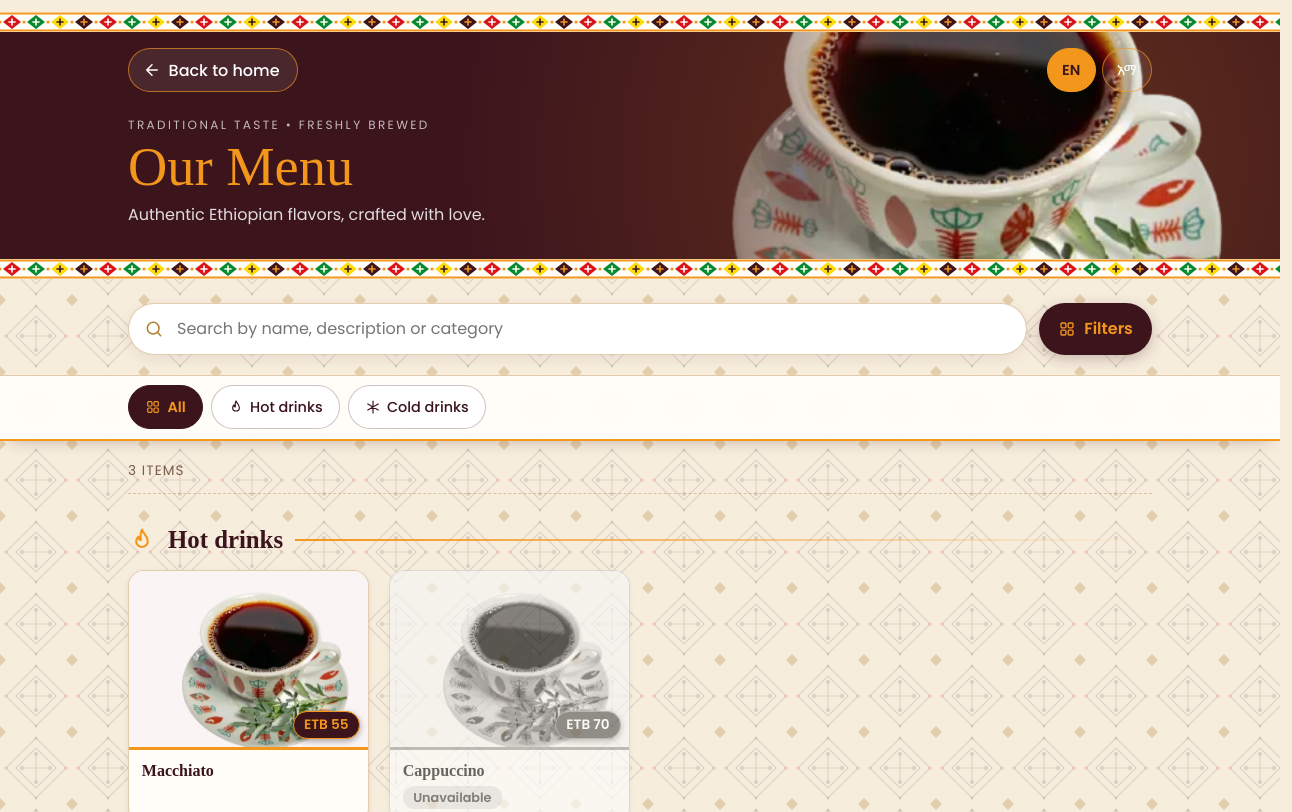
Test: MenuPage filters › shows an empty state and clears the filters
Type "zzzz" into the search field named "Search the menu" at [578, 329], box top-left (128, 303), bottom-right (1027, 355)
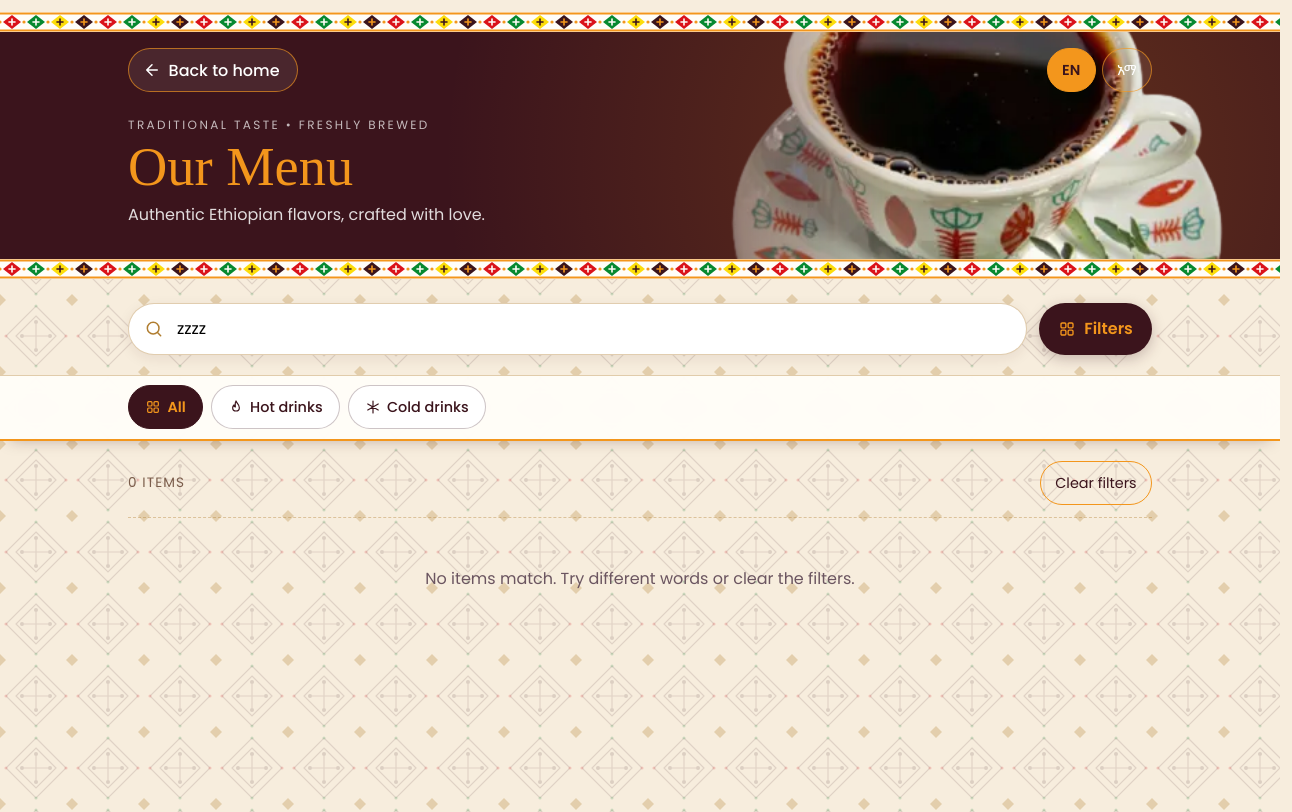
Now the text "No items match. Try different words or clear the filters." is shown, box top-left (425, 567), bottom-right (855, 590)
Click the button "Clear filters" at [1096, 483], box top-left (1040, 461), bottom-right (1152, 505)
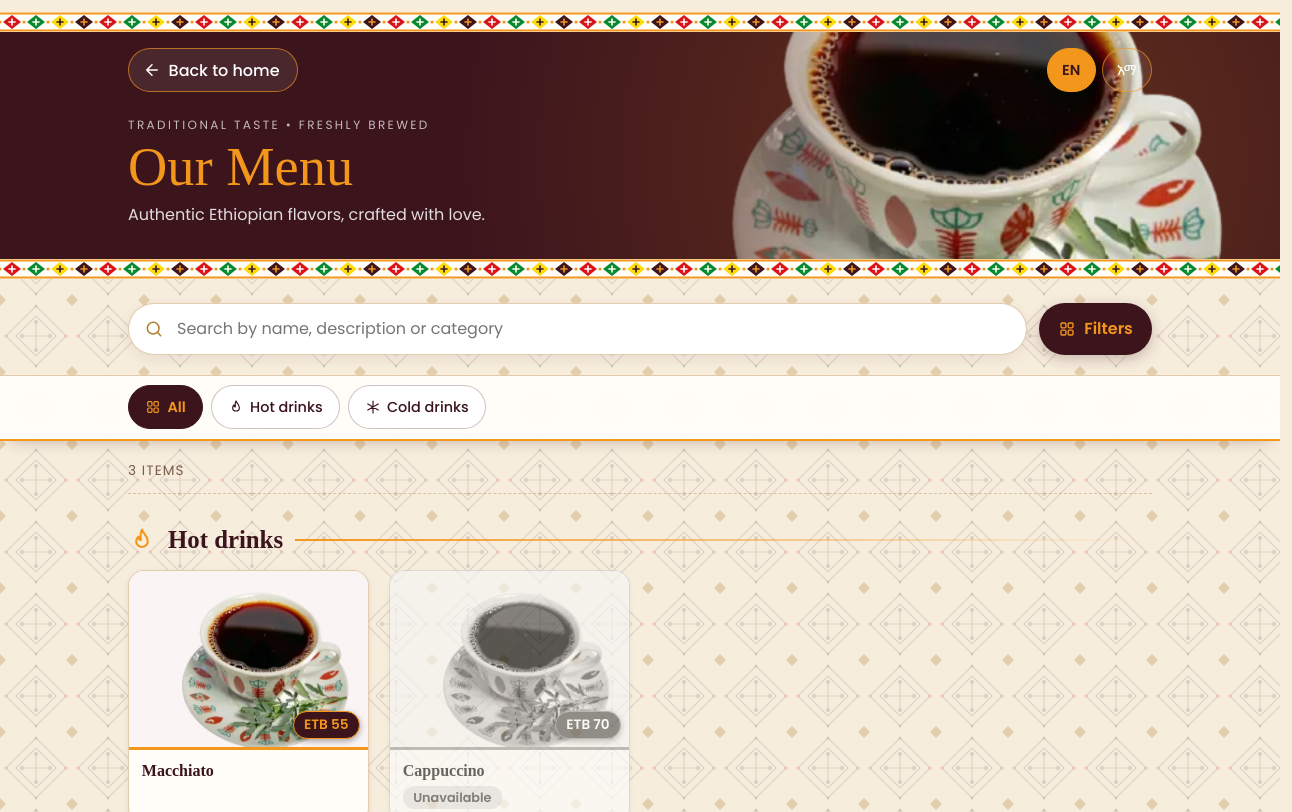
Now the heading "Macchiato" is shown, box top-left (142, 762), bottom-right (214, 780)
Now the text "No items match" is gone
